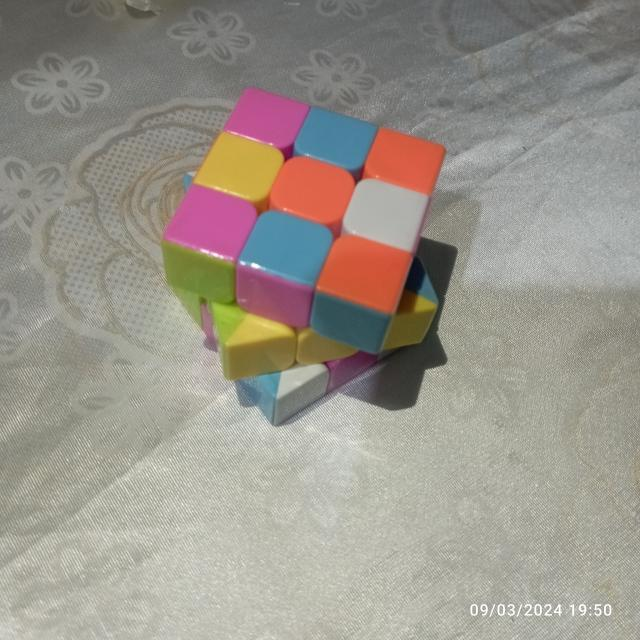Rub: (157, 83, 450, 427)
